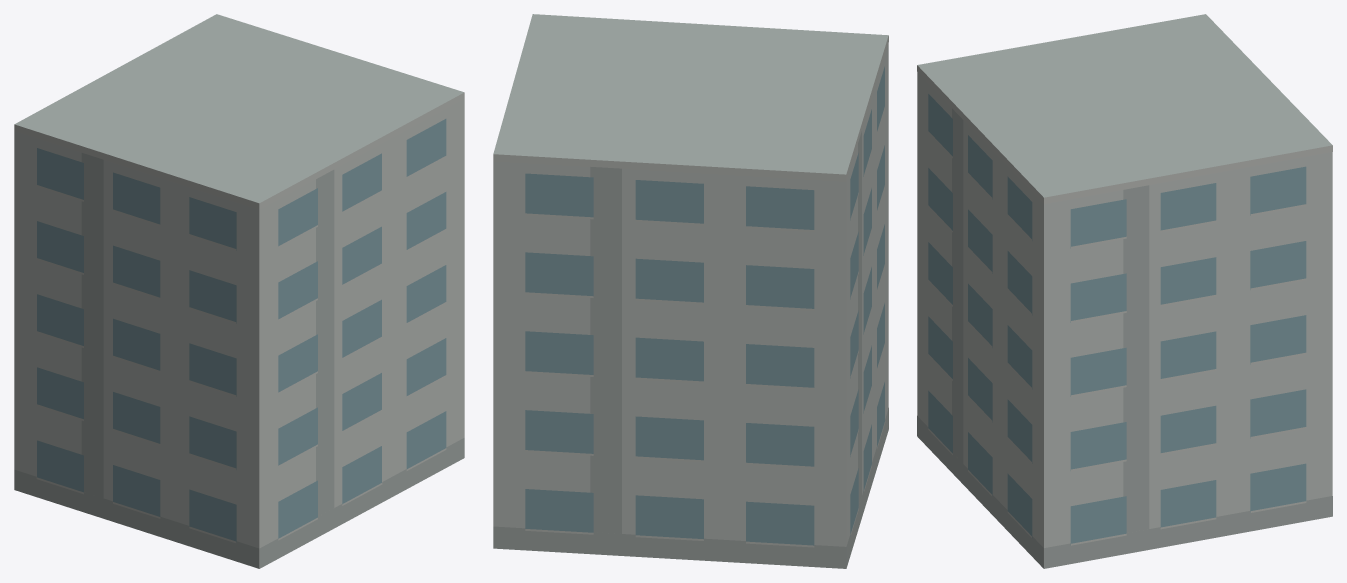
The model's file is survey-upis-32860440.glb.
The picture shows the model from 3 angles, left to right: view 1: azimuth 30°, elevation 25°; view 2: azimuth 150°, elevation 25°; view 3: azimuth 270°, elevation 25°; orthographic projection. The views are drawn at different scales.
Visible parts, largest first — view 1: survey-upis-32860440.tmp; view 2: survey-upis-32860440.tmp; view 3: survey-upis-32860440.tmp.
Part boxes in pixels (box(x1,y1,x2,y2)): survey-upis-32860440.tmp: box(14, 14, 464, 568); survey-upis-32860440.tmp: box(493, 14, 888, 568); survey-upis-32860440.tmp: box(917, 14, 1332, 568).
Size of the model in its own units: 14.49 by 13.65 by 13.86.
